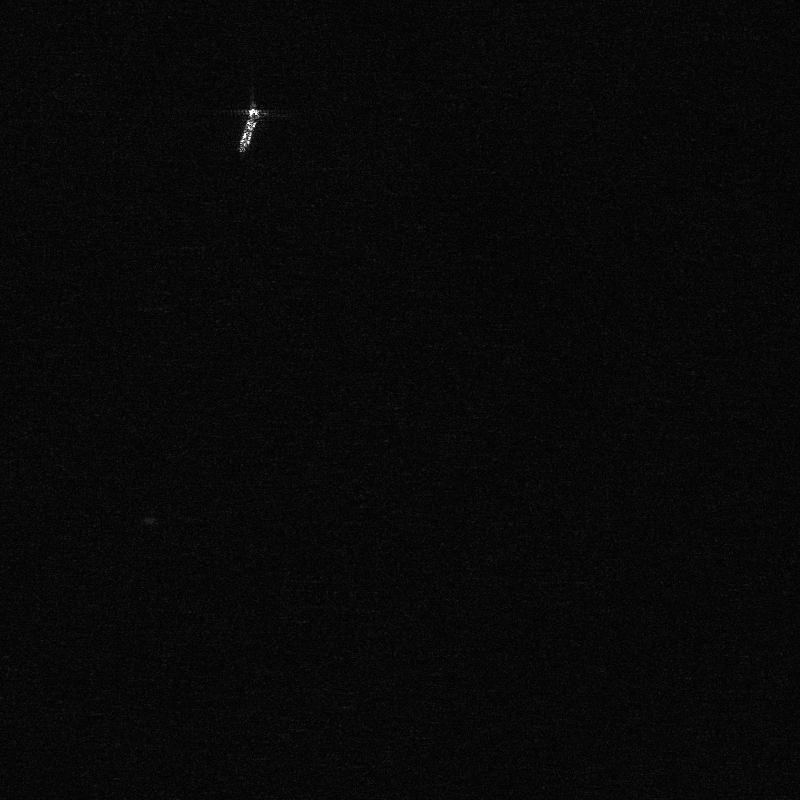ship: (238, 107, 259, 153)
